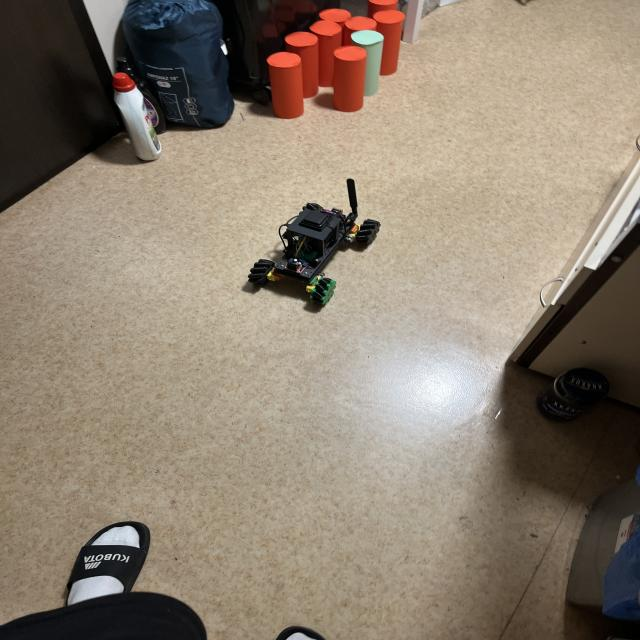robot: (247, 179, 380, 305)
